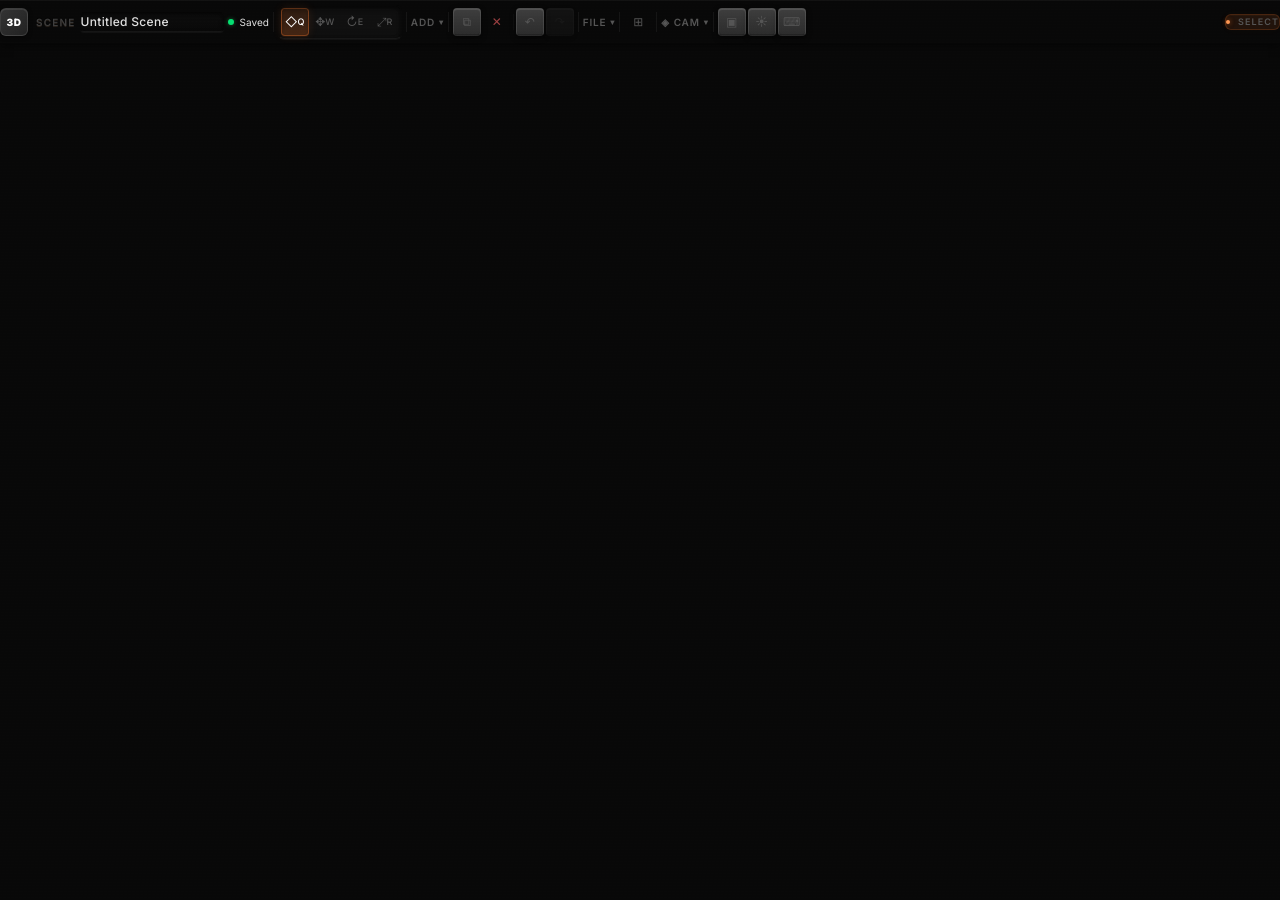
Test: Toolbar › Reset confirmation dialog › clicking "New Scene" with objects shows confirmation dialog
Click the button with aria-label "File operations". click: [599, 22]
box: top-left (583, 8), bottom-right (615, 36)
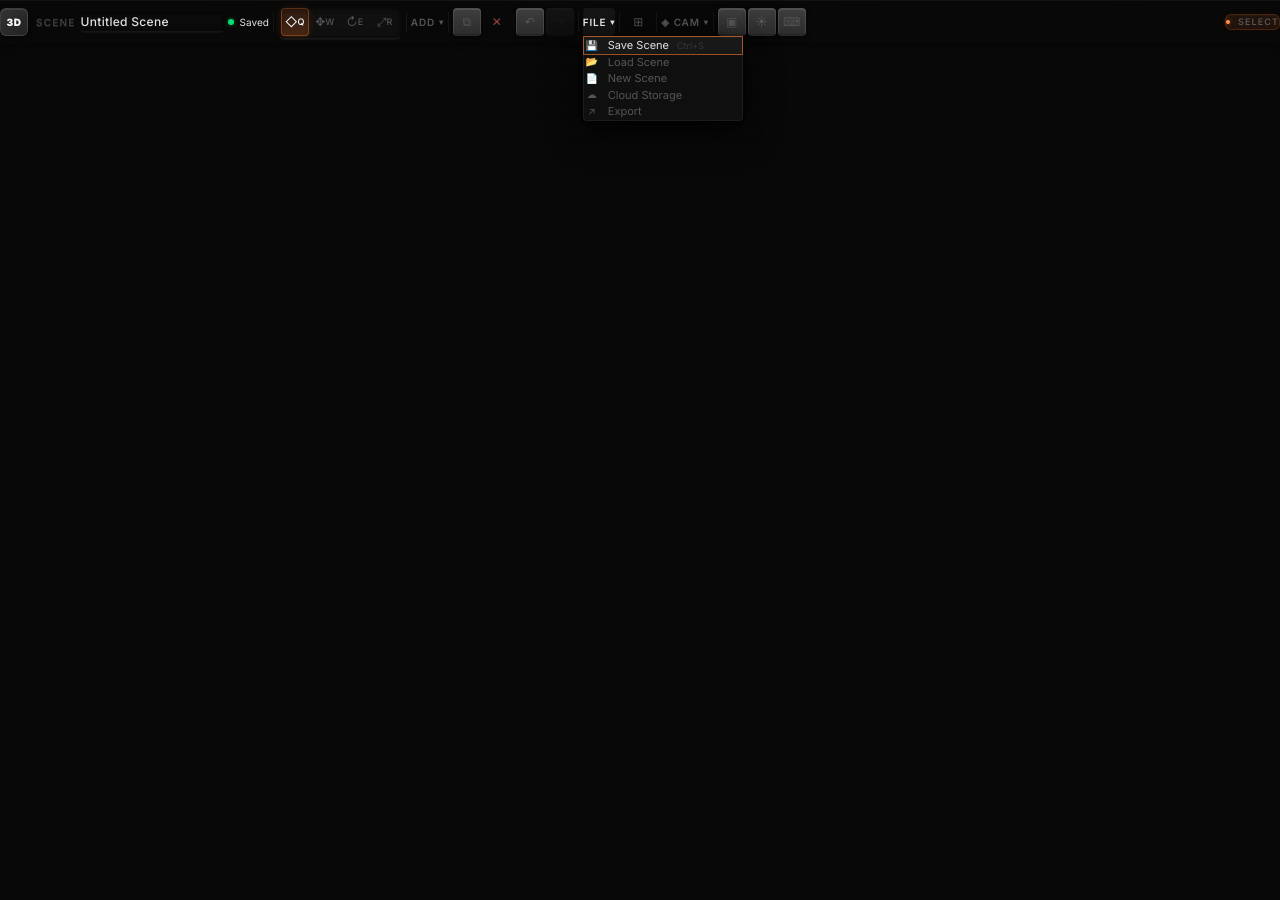
Click the menu item "📄 New Scene". click: [663, 78]
box: top-left (584, 70), bottom-right (742, 86)
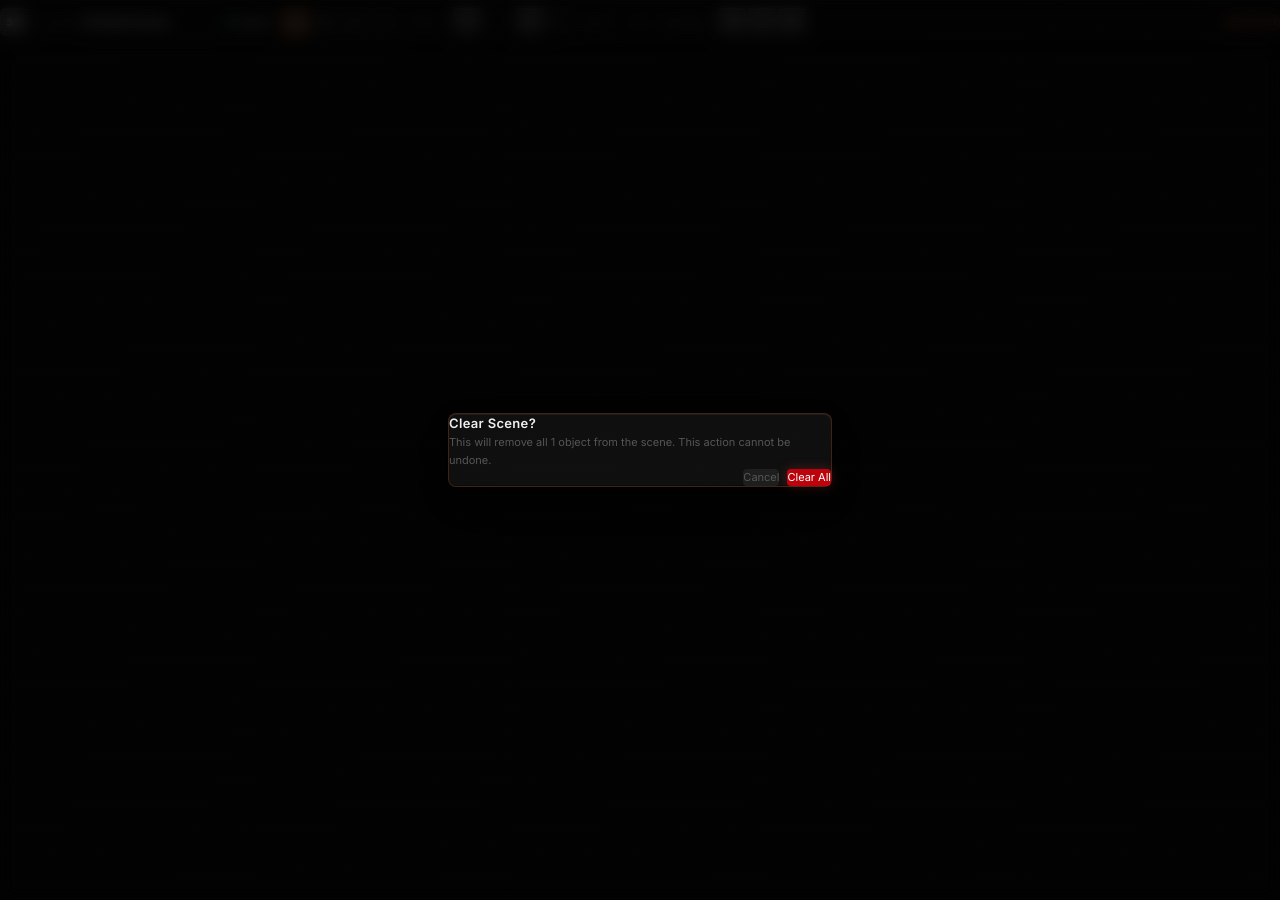
Result: the heading "Clear Scene?" is shown at top-left (449, 415), bottom-right (536, 431)
Result: the button "Clear All" is shown at top-left (787, 469), bottom-right (831, 486)
Result: the button "Cancel" is shown at top-left (743, 469), bottom-right (780, 486)
